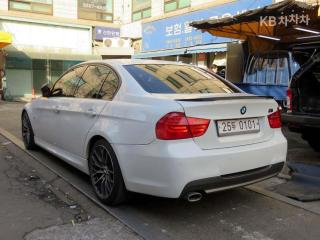0: (239, 120, 244, 130), (247, 119, 252, 129)
1: (252, 119, 257, 128), (244, 121, 248, 130)
2: (222, 122, 227, 132)
5: (227, 121, 232, 131)
두: (231, 121, 236, 131)
